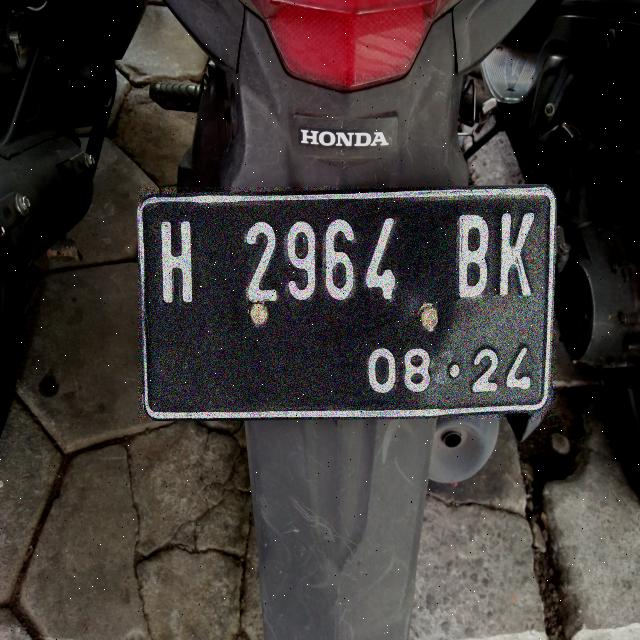plate: (139, 187, 555, 418)
